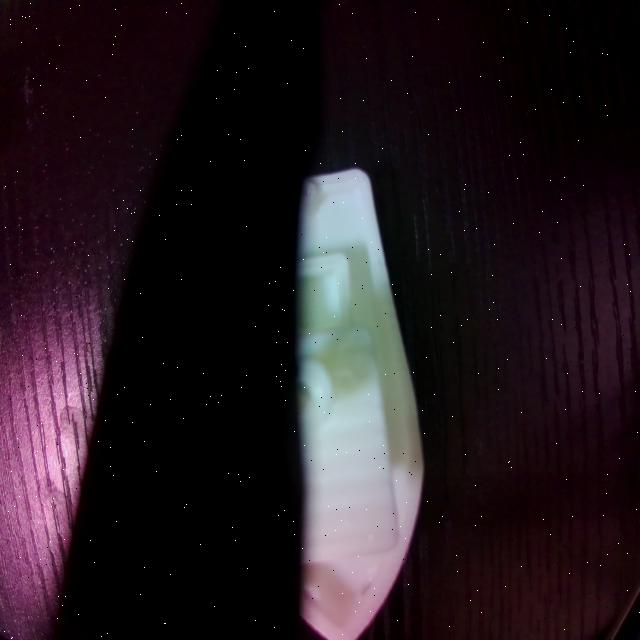ship: (195, 163, 424, 640)
